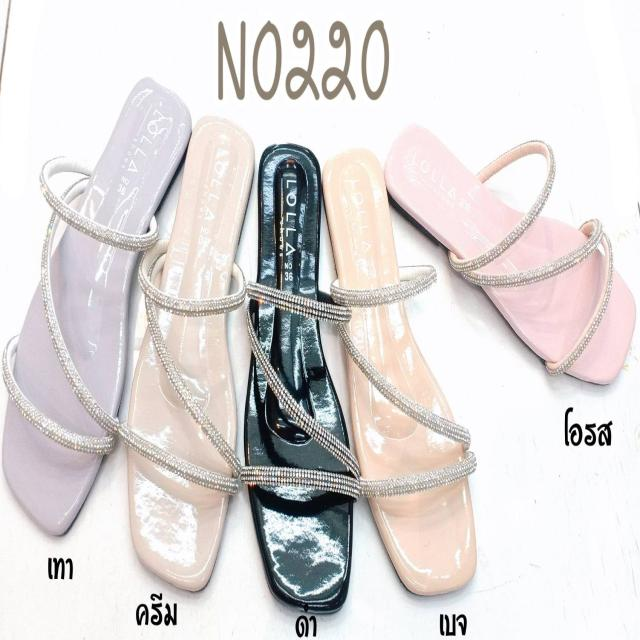bej: (319, 149, 480, 594)
black: (241, 138, 352, 612)
cream: (124, 112, 256, 588)
grey: (2, 79, 192, 534)
orot: (384, 125, 633, 390)
